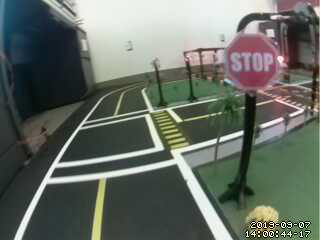Stop_Sign: (224, 32, 285, 92)
